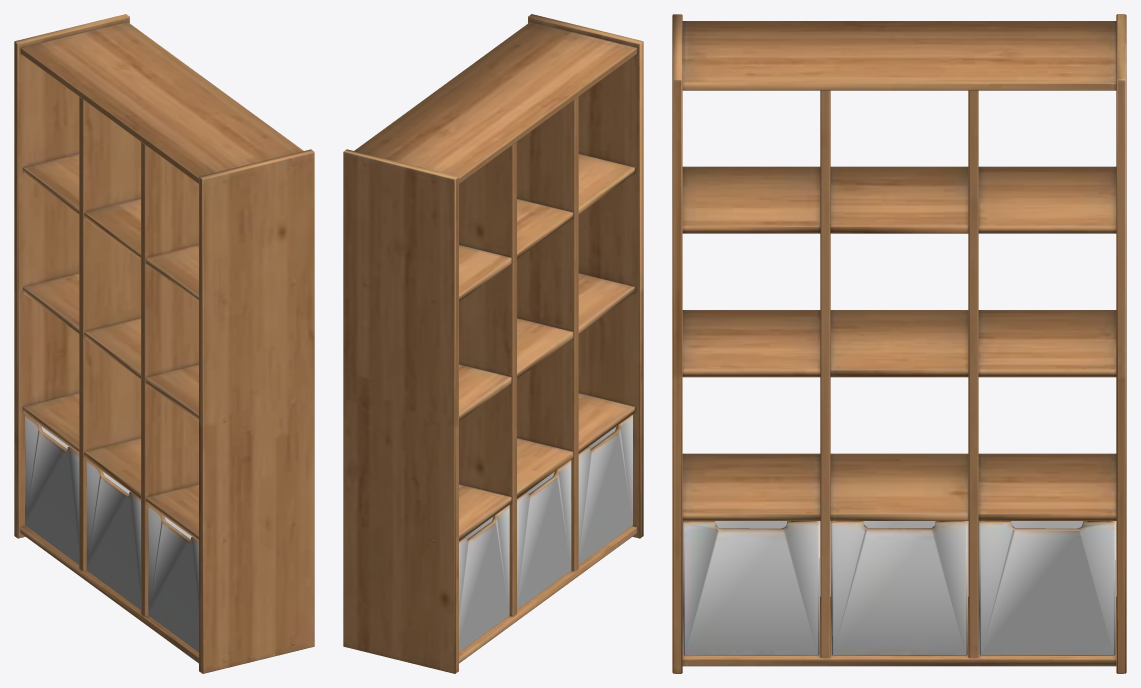
Rendered from wooden_display_shelves_01.glb.
The picture shows the model from 3 angles, left to right: view 1: azimuth 30°, elevation 25°; view 2: azimuth 150°, elevation 25°; view 3: azimuth 270°, elevation 25°; orthographic projection. The views are drawn at different scales.
Visible parts, largest first — view 1: wooden_display_shelves_01, wooden_display_shelves_01_drawer_02, wooden_display_shelves_01_drawer_01, wooden_display_shelves_01_drawer_03; view 2: wooden_display_shelves_01, wooden_display_shelves_01_drawer_02, wooden_display_shelves_01_drawer_03, wooden_display_shelves_01_drawer_01; view 3: wooden_display_shelves_01, wooden_display_shelves_01_drawer_03, wooden_display_shelves_01_drawer_01, wooden_display_shelves_01_drawer_02.
Boxes of the visible parts, x1,y1,x2,y2 form: wooden_display_shelves_01: (14, 14, 314, 673); wooden_display_shelves_01_drawer_02: (86, 460, 140, 609); wooden_display_shelves_01_drawer_01: (25, 415, 79, 564); wooden_display_shelves_01_drawer_03: (148, 505, 198, 652); wooden_display_shelves_01: (343, 14, 643, 673); wooden_display_shelves_01_drawer_02: (517, 460, 571, 609); wooden_display_shelves_01_drawer_03: (578, 415, 632, 564); wooden_display_shelves_01_drawer_01: (459, 505, 509, 652); wooden_display_shelves_01: (672, 14, 1126, 673); wooden_display_shelves_01_drawer_03: (682, 521, 819, 655); wooden_display_shelves_01_drawer_01: (978, 521, 1115, 655); wooden_display_shelves_01_drawer_02: (831, 521, 967, 655).
Bounding box in the file's own units: 0.3714 × 1.56 × 1.08.
1 material, 1 textured.
